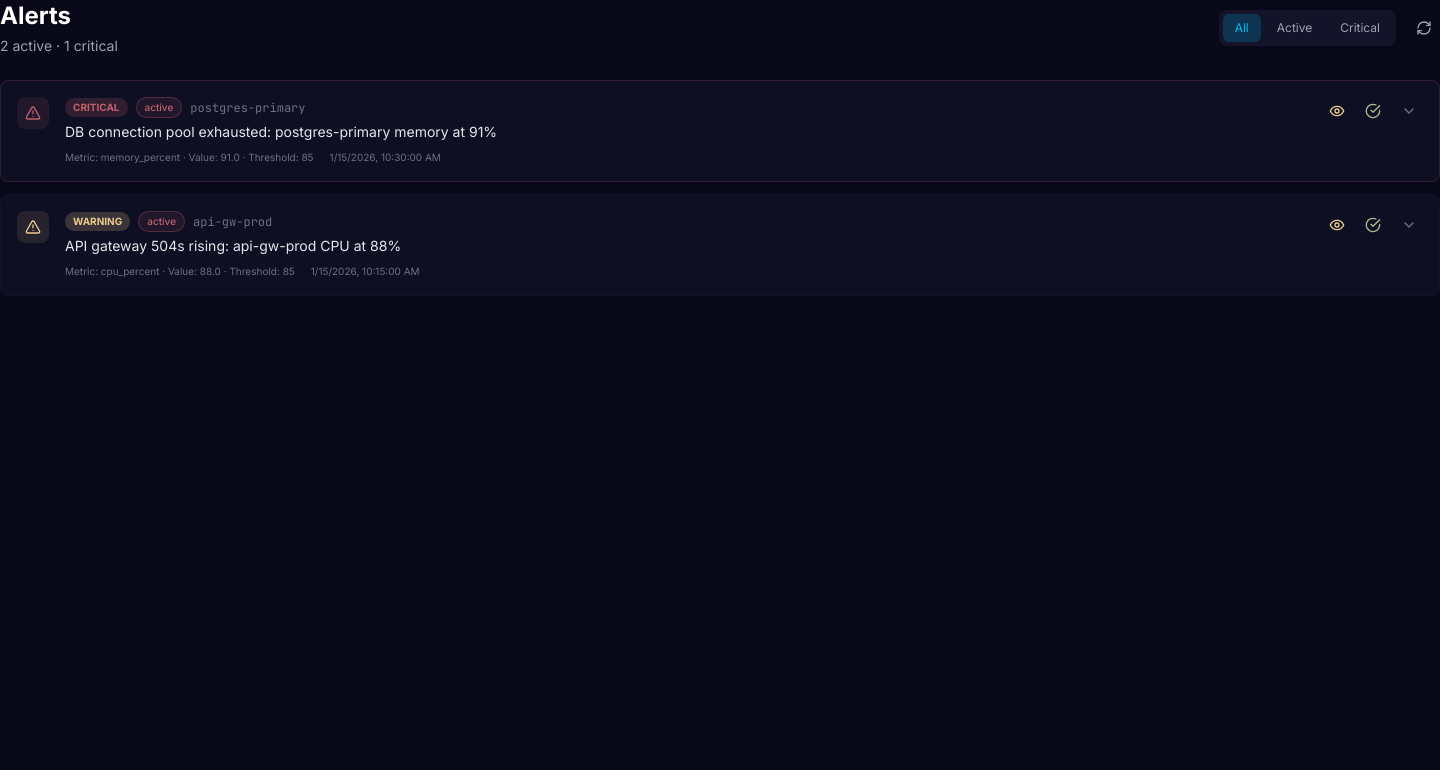
Scenario: AlertPanel › remediation history › filters history by status when filter is clicked
Click the button with class "lucide-chevron-down": [1409, 111] box 1395,97 -> 1423,125
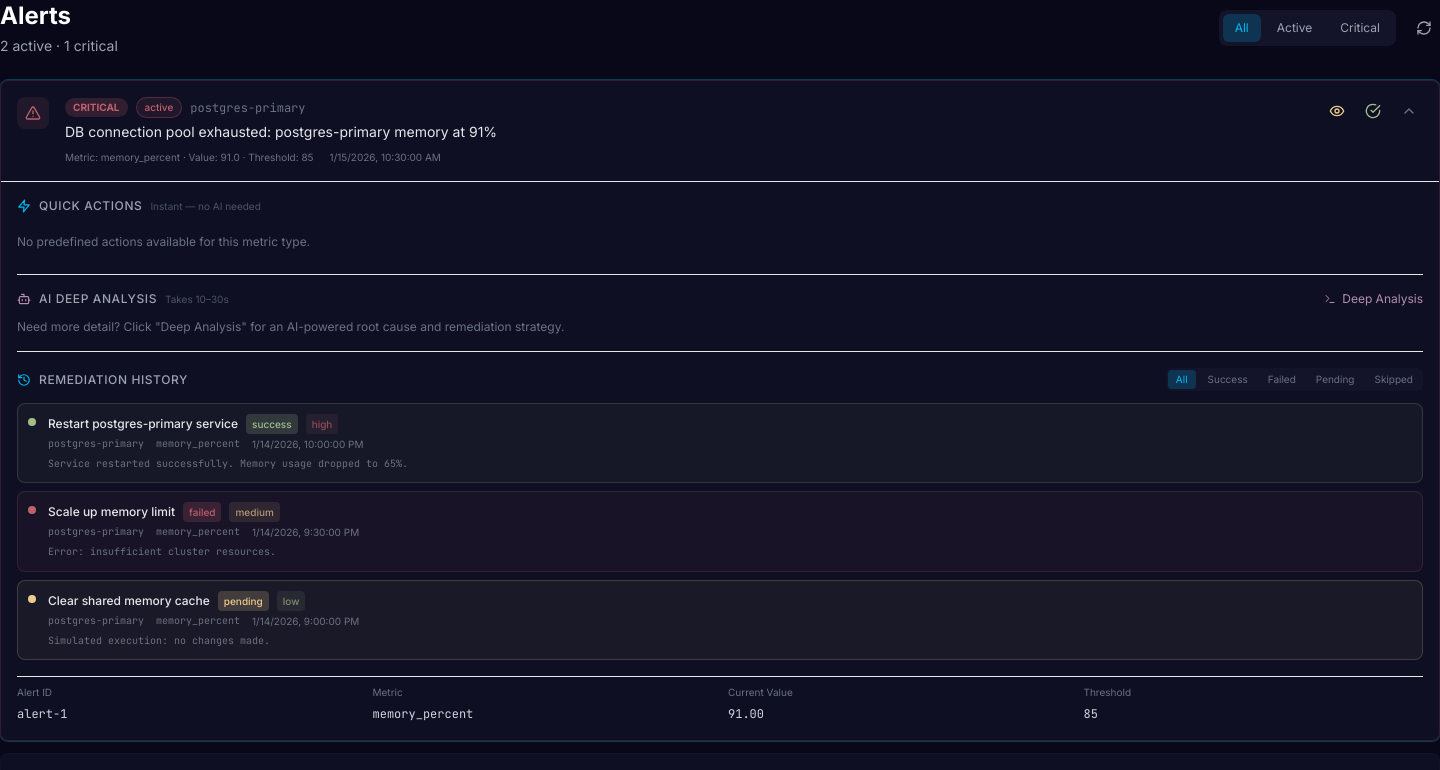
Check: the heading "Remediation History" is shown, box 39,372 -> 188,388
Check: the text "Clear shared memory cache" is shown, box 48,592 -> 210,608
Click the button "Failed": [1282, 380] box 1260,370 -> 1304,389
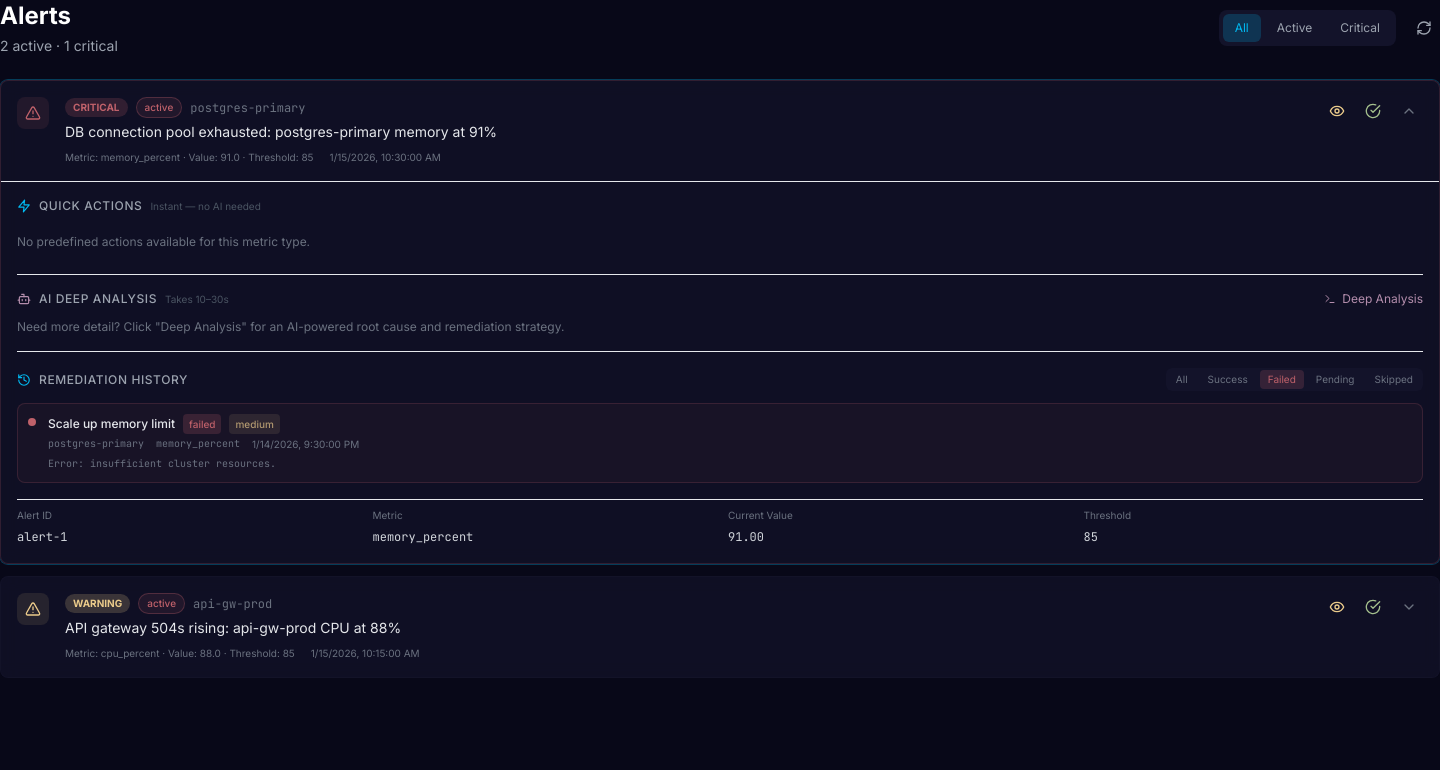
Check: the text "Scale up memory limit" is shown, box 48,416 -> 175,432
Check: the text "Restart postgres-primary service" is gone
